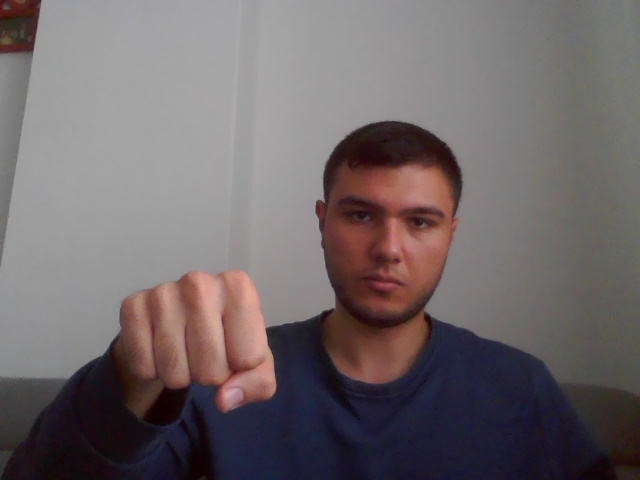yes: (117, 268, 282, 413)
